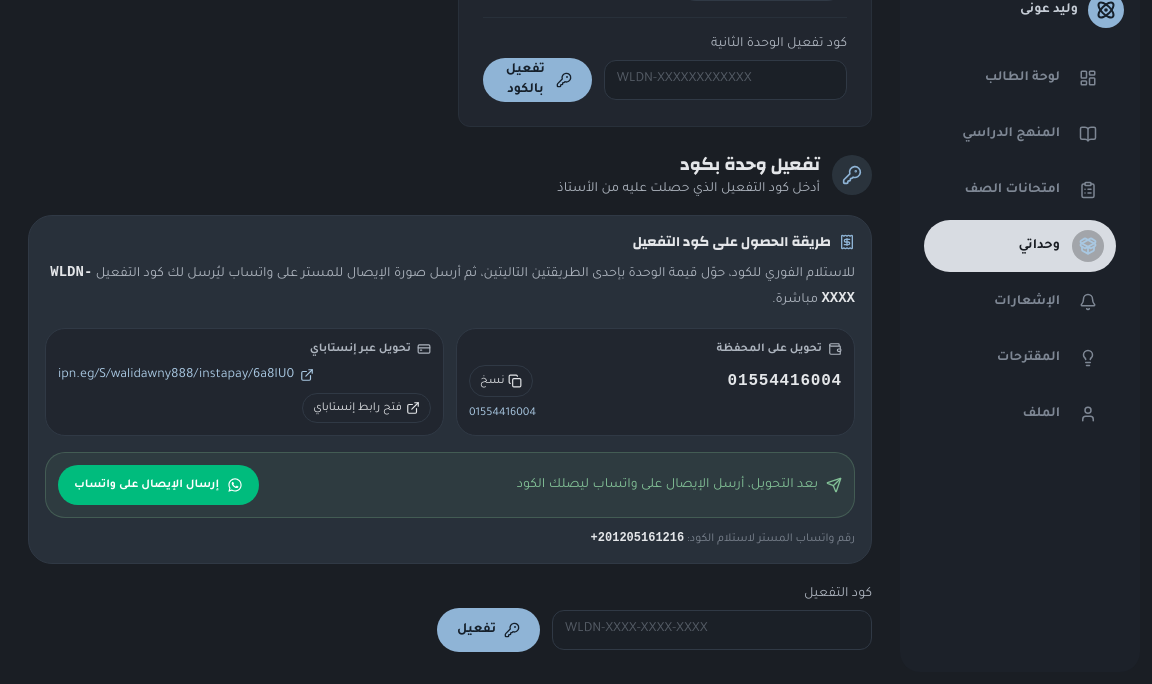
Scenario: UnitsPage › rejects redeeming a code for a draft unit
The image size is (1152, 684).
(page scrolled)
Type "WLDN-ABCD-EFGH-JKLM" into the field labelled "كود التفعيل". click: [712, 630]
box: [552, 610, 872, 650]
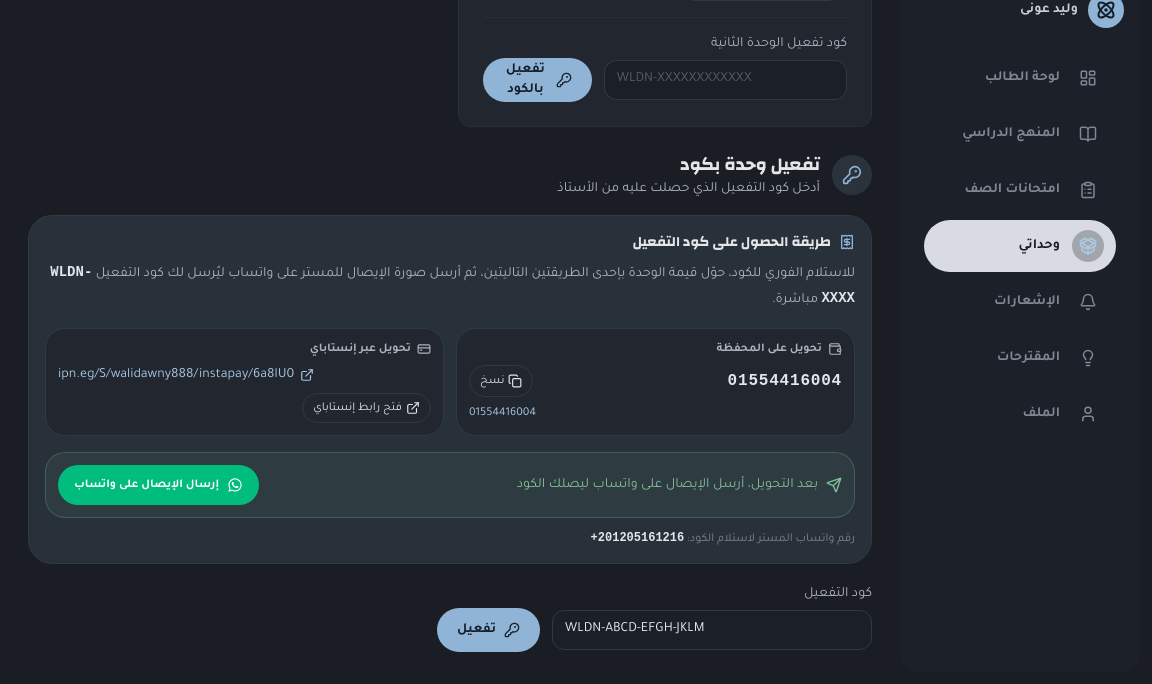
Click the button "تفعيل". click: [488, 630]
box: [437, 608, 540, 652]
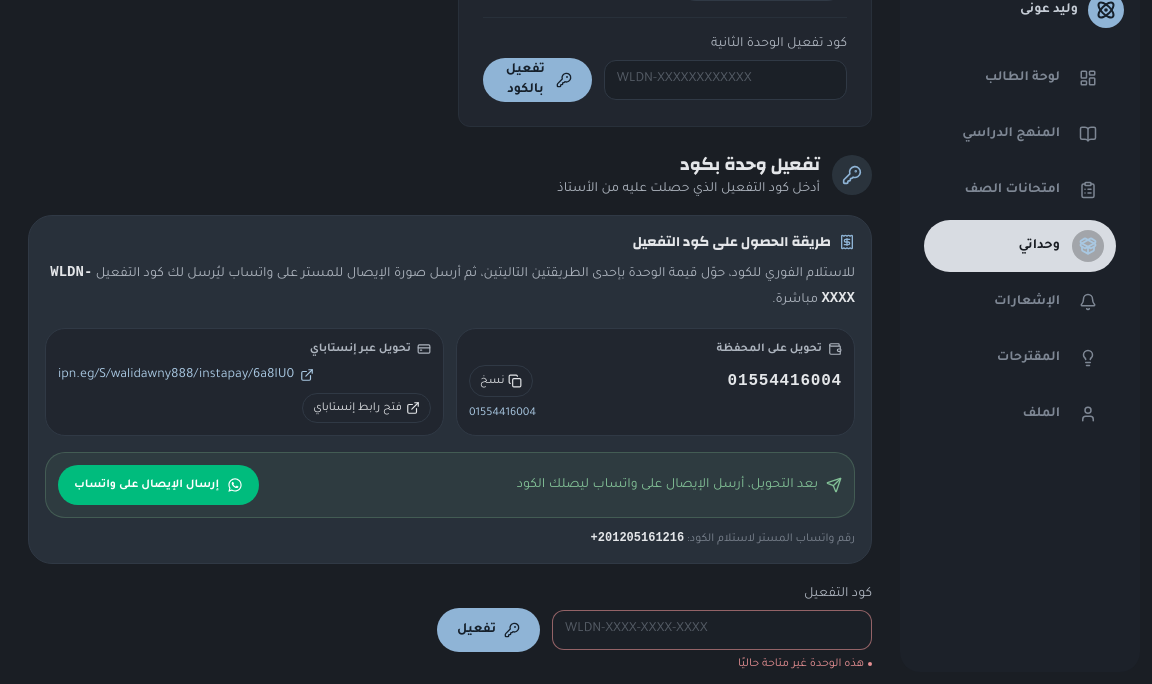
Check: the text "هذه الوحدة غير متاحة حاليًا" is shown, box [738, 658, 872, 670]
